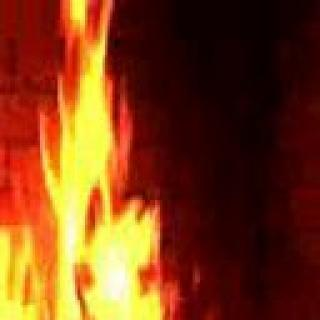fire: (0, 47, 221, 320)
